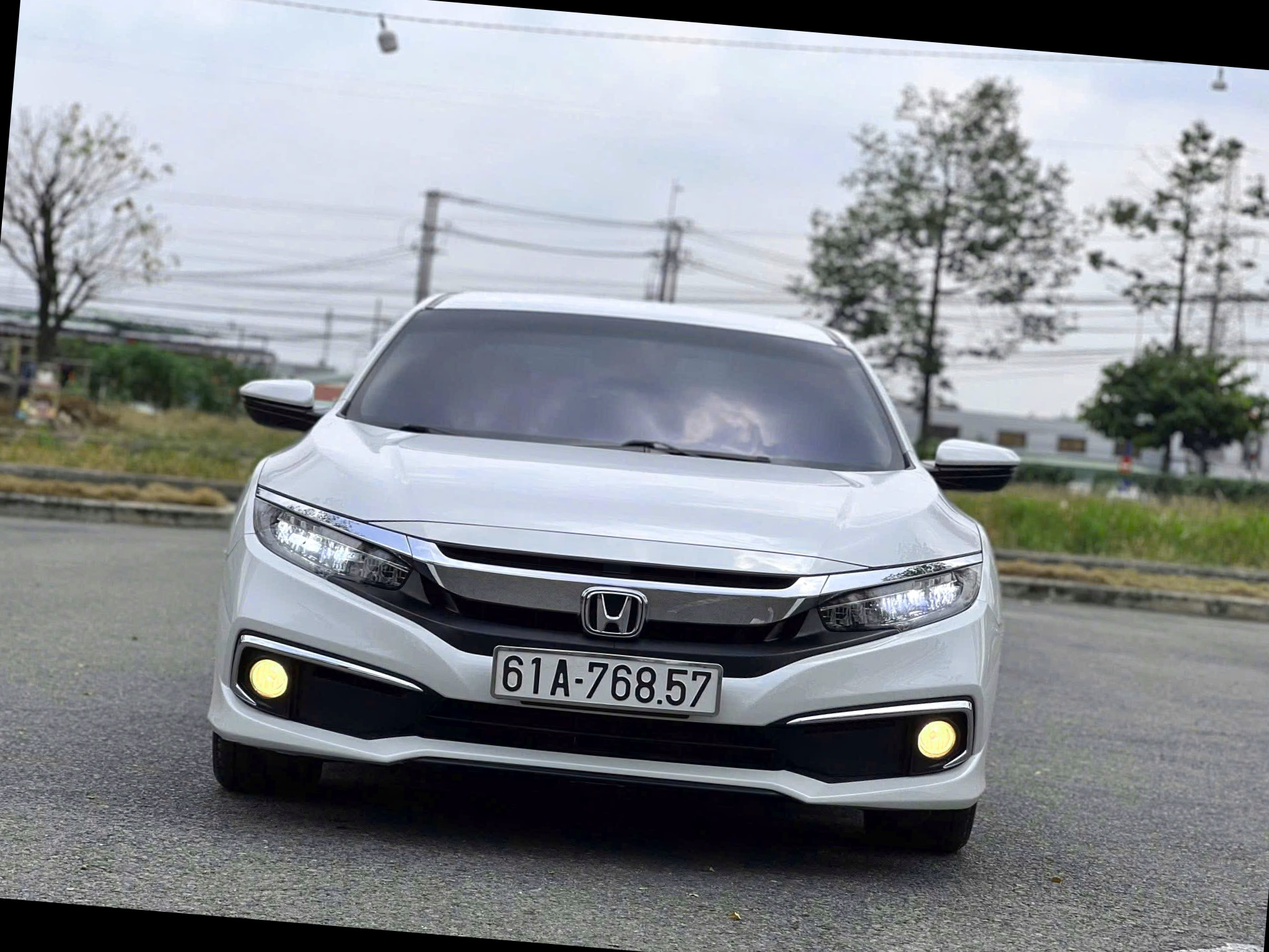Bien-so: (492, 642, 728, 723)
